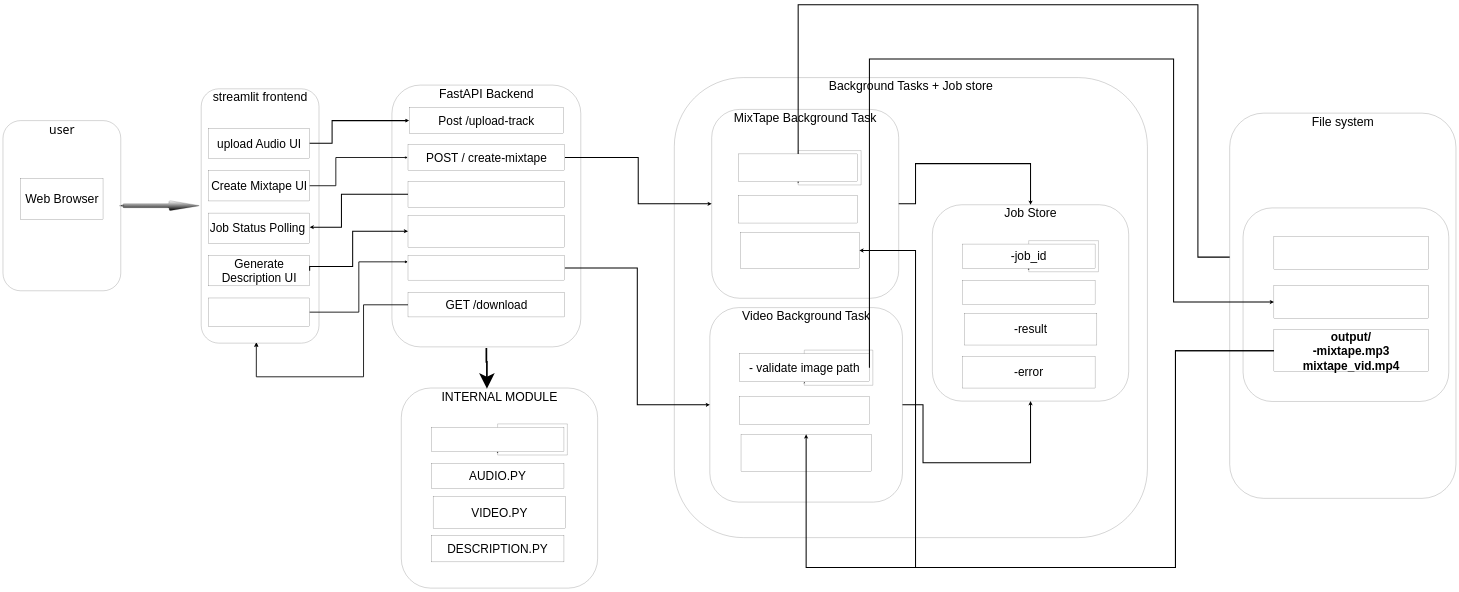
Some shapes in this 1459 by 592 pixel diagram are drawn without their labels. The shapes that lost their labels are listed below. From the top down, each one's centre as x and y in pixels, then its label:
[798,168]: -read uploaded audio
[486,194]: GET /job/:job_id
[798,209]: -smooth fades
[486,231]: POST / genraate-description
[799,250]: - export MP3
[486,268]: POST /make-video
[1351,253]: uploaded/<job_prefix>/ -raw audio files
[259,312]: Make Video UI
[1028,292]: -status
[1351,302]: -images/ -background images
[804,410]: - load audio
[497,439]: -UTILS.PY
[806,452]: - render MP4
